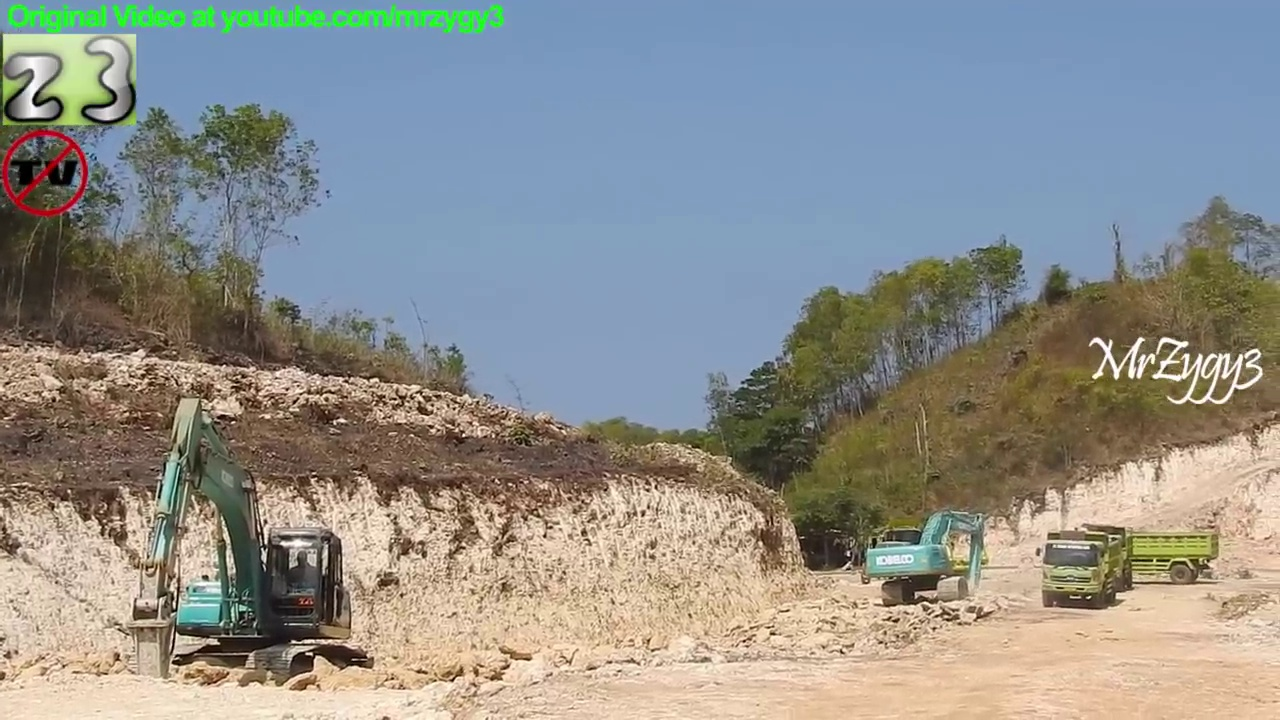excavator: (860, 510, 991, 606)
excavator breaker: (119, 392, 382, 693)
truck: (1067, 516, 1222, 586), (1054, 521, 1133, 599), (1038, 543, 1120, 613)
